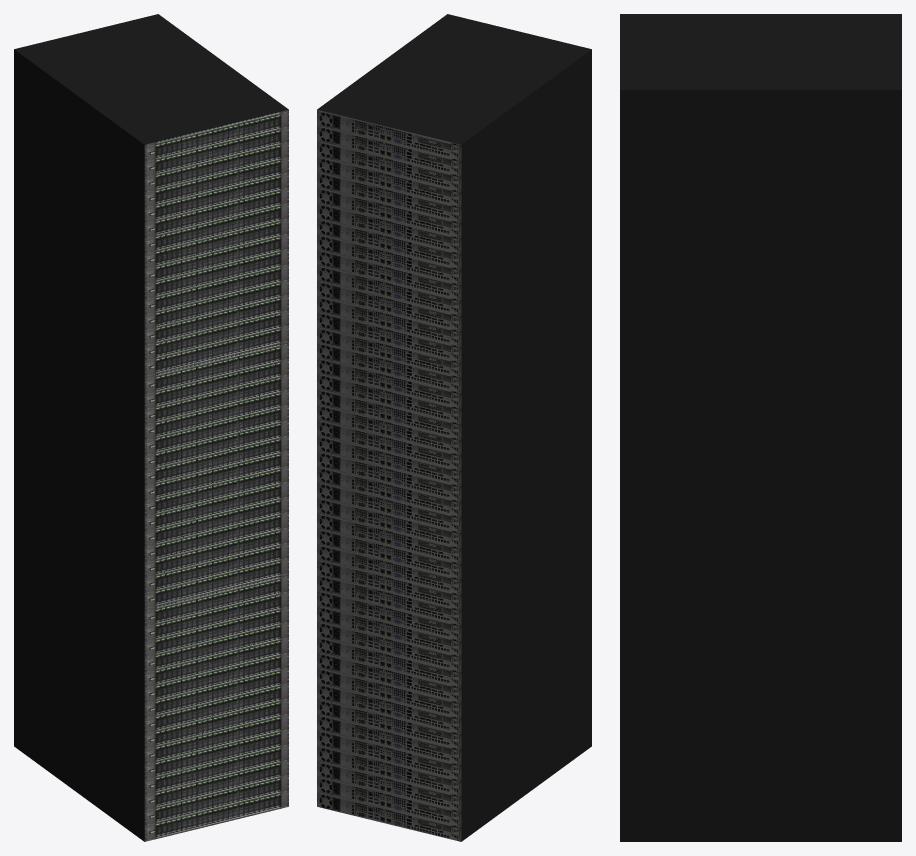
The model's file is TDR45.fbx.
3 renders of one model, left to right at view 1: azimuth 30°, elevation 25°; view 2: azimuth 150°, elevation 25°; view 3: azimuth 270°, elevation 25°, orthographic. The views are drawn at different scales.
Parts seen in each view (by area): view 1: TDR45; view 2: TDR45; view 3: TDR45.
Part boxes in pixels (x1=…): TDR45: x1=14, y1=14, x2=288, y2=841; TDR45: x1=317, y1=14, x2=591, y2=841; TDR45: x1=620, y1=14, x2=901, y2=841.
Bounding box in the file's own units: 434 × 2002 × 680.
Materials: 3 (2 with a texture image).
